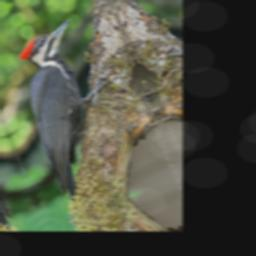Woodpecker: (0, 13, 145, 209)
